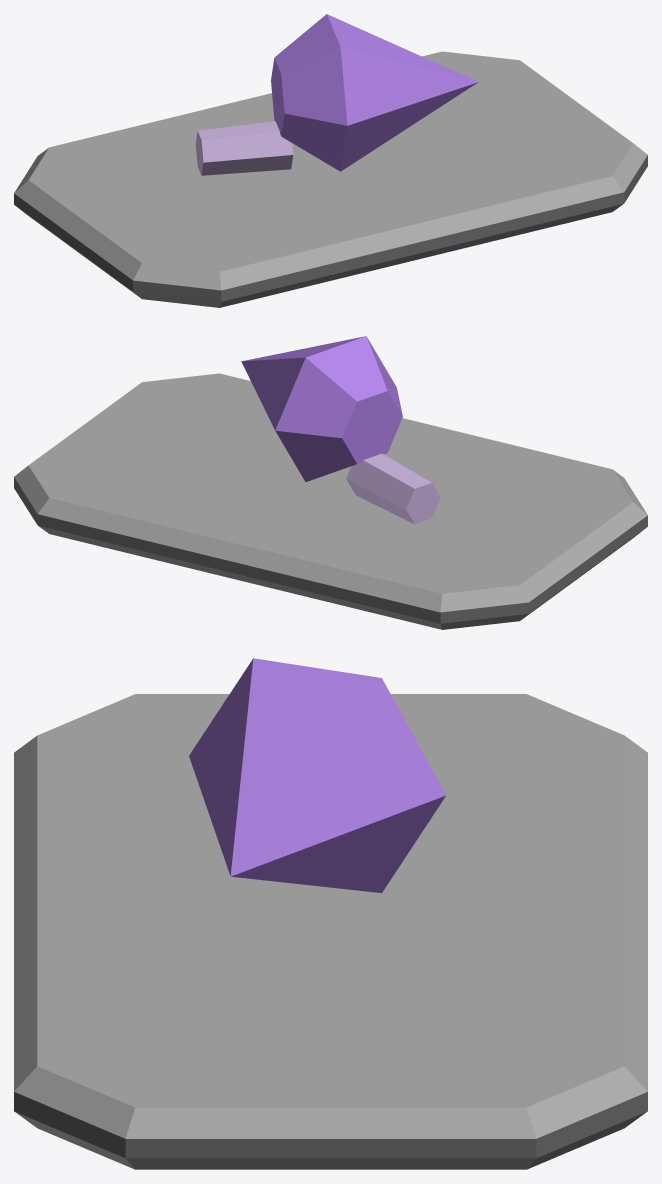
Rendered from item_produce_psilocap_a.obj.
The picture shows the model from 3 angles, top to bottom: view 1: azimuth 30°, elevation 25°; view 2: azimuth 150°, elevation 25°; view 3: azimuth 270°, elevation 25°; orthographic projection. The views are drawn at different scales.
Size of the model in its own units: 0.6864 by 0.217 by 0.4244.
